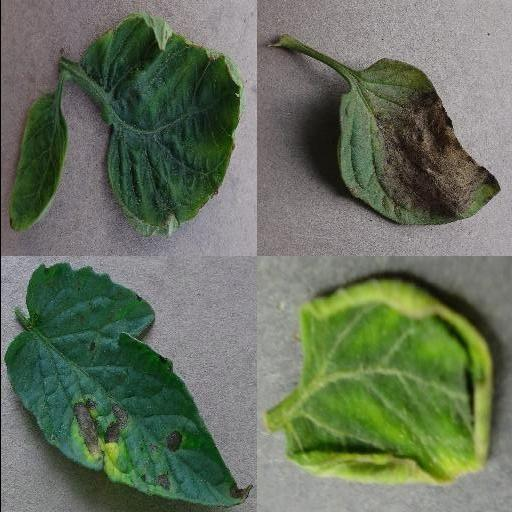Early Blight: (1, 262, 253, 508)
Late Blight: (336, 59, 500, 229)
Yellow Leaf Curl Virus: (285, 274, 493, 488), (78, 15, 246, 239), (7, 95, 69, 231)
